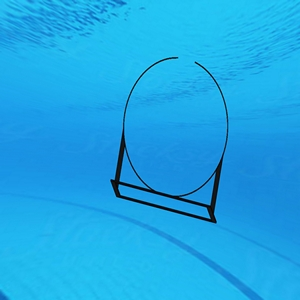circle: (110, 50, 233, 227)
